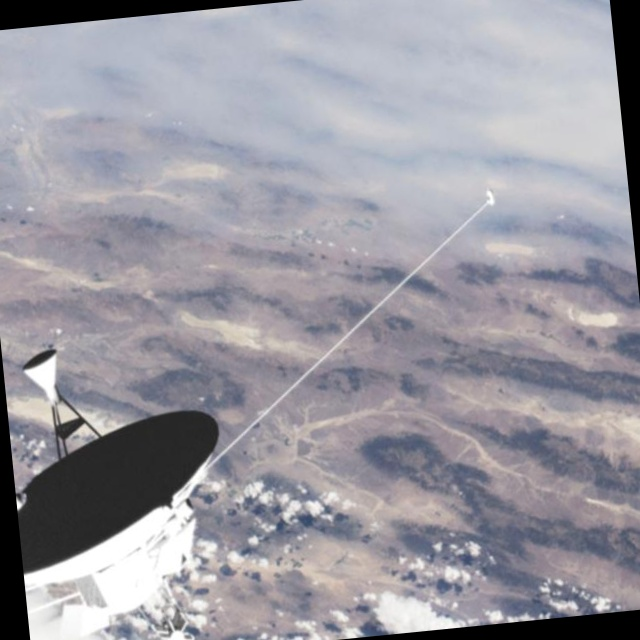satellite: (0, 175, 549, 640)
